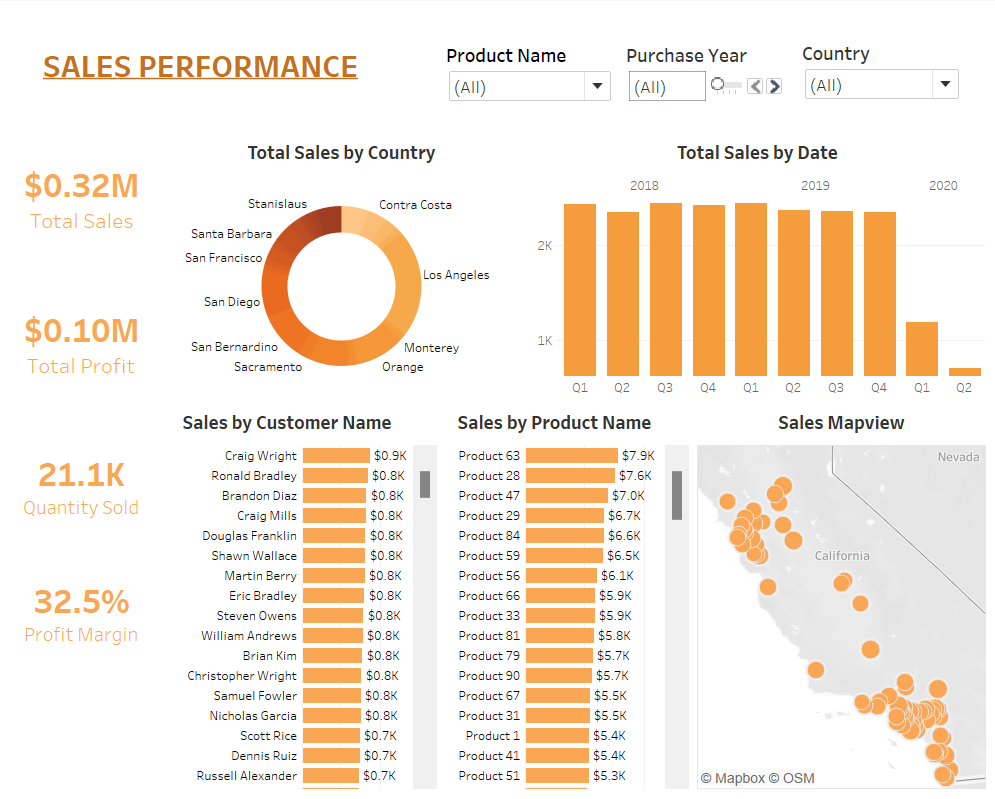

What the dashboard file says about the page in this screenshot:
{"tool":"tableau","page":{"name":"Dashboard 1","canvas":[1000,800],"ordinal":0},"visuals":[{"type":"filter","title":"Total Sales by Date","param":"[federated.0hthham1dmwcq714mh96o1pflu5p].[none:Purchase Date (Years):ok]","box":[628,32,160,62]},{"type":"filter","title":"Total Sales by Country","param":"[federated.0hthham1dmwcq714mh96o1pflu5p].[none:County - Split 1:nk]","box":[800,32,160,62]},{"type":"filter","title":"Total Sales by Product Name","param":"[federated.0hthham1dmwcq714mh96o1pflu5p].[none:Product Name:nk]","box":[448,33,168,76]},{"type":"text","box":[41,46,324,41]},{"type":"worksheet","title":"Total Sales","mark":"Automatic","box":[8,130,152,124]},{"type":"worksheet","title":"Total Sales by Country","mark":"Pie","cols":["Calculation_228839175651463169","Calculation_228839175651618819"],"box":[192,130,367,270]},{"type":"worksheet","title":"Total Sales by Date","mark":"Bar","rows":["Quantity"],"cols":["Purchase Date (Years)","Purchase Date"],"box":[591,130,401,270]},{"type":"worksheet","title":"Total Profit","mark":"Automatic","box":[8,254,152,129]},{"type":"worksheet","title":"Quantity Sold","mark":"Automatic","box":[8,383,152,110]},{"type":"worksheet","title":"Total Sales by Customer Name","mark":"Automatic","rows":["Customer Name"],"cols":["Calculation_1368812831050018816"],"box":[160,400,274,392]},{"type":"worksheet","title":"Total Sales by Product Name","mark":"Automatic","rows":["Product Name"],"cols":["Calculation_1368812831050018816"],"box":[434,400,282,392]},{"type":"worksheet","title":"Lat Lon Sales","mark":"Automatic","rows":["Latitude"],"cols":["Longitude"],"box":[716,400,276,392]},{"type":"worksheet","title":"Total Trans","mark":"Automatic","box":[8,493,152,130]},{"type":"worksheet","title":"Profit Margin","mark":"Automatic","box":[8,628,152,107]}]}

Visuals, with their boxes in screenshot pixels (x1, y1, x2, y2), scaled from the page's 1000x800 canvas onto the 995x799 screenshot:
"Total Sales by Date" filter: x1=625 y1=32 x2=784 y2=94
"Total Sales by Country" filter: x1=796 y1=32 x2=955 y2=94
"Total Sales by Product Name" filter: x1=446 y1=33 x2=613 y2=109
text: x1=41 y1=46 x2=363 y2=87
"Total Sales" worksheet: x1=8 y1=130 x2=159 y2=254
"Total Sales by Country" worksheet (Pie marks): x1=191 y1=130 x2=556 y2=400
"Total Sales by Date" worksheet (Bar marks): x1=588 y1=130 x2=987 y2=400
"Total Profit" worksheet: x1=8 y1=254 x2=159 y2=383
"Quantity Sold" worksheet: x1=8 y1=383 x2=159 y2=492
"Total Sales by Customer Name" worksheet: x1=159 y1=400 x2=432 y2=791
"Total Sales by Product Name" worksheet: x1=432 y1=400 x2=712 y2=791
"Lat Lon Sales" worksheet: x1=712 y1=400 x2=987 y2=791
"Total Trans" worksheet: x1=8 y1=492 x2=159 y2=622
"Profit Margin" worksheet: x1=8 y1=627 x2=159 y2=734
